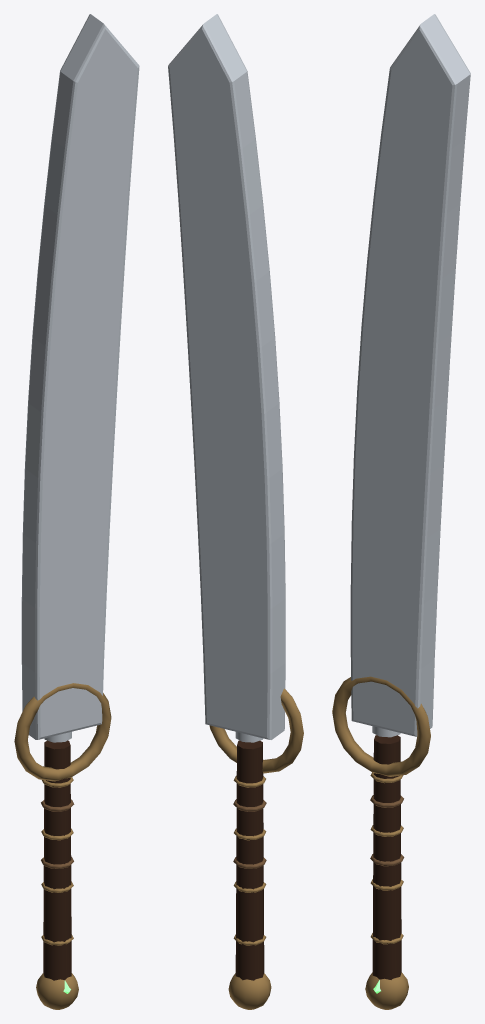
File: greatsword_f4_2081415b.glb
3 renders of one model, left to right at view 1: azimuth 30°, elevation 25°; view 2: azimuth 150°, elevation 25°; view 3: azimuth 330°, elevation 25°, orthographic.
Visible parts, largest first — view 1: m3_ow80_, m1_ow80_, m4_ow80_, m5_ow80_; view 2: m3_ow80_, m1_ow80_, m4_ow80_, m5_ow80_; view 3: m3_ow80_, m1_ow80_, m4_ow80_, m5_ow80_.
Boxes of the visible parts, x1,y1,x2,y2 form: m3_ow80_: (21, 14, 139, 742); m1_ow80_: (43, 740, 71, 980); m4_ow80_: (14, 683, 111, 1009); m5_ow80_: (41, 799, 74, 868); m3_ow80_: (168, 14, 285, 742); m1_ow80_: (235, 740, 264, 980); m4_ow80_: (209, 688, 303, 1009); m5_ow80_: (233, 799, 266, 868); m3_ow80_: (350, 14, 470, 737); m1_ow80_: (372, 735, 401, 979); m4_ow80_: (332, 676, 430, 1009); m5_ow80_: (370, 795, 404, 866).
Size of the model in its own units: 0.4973 by 3.76 by 0.1555.
